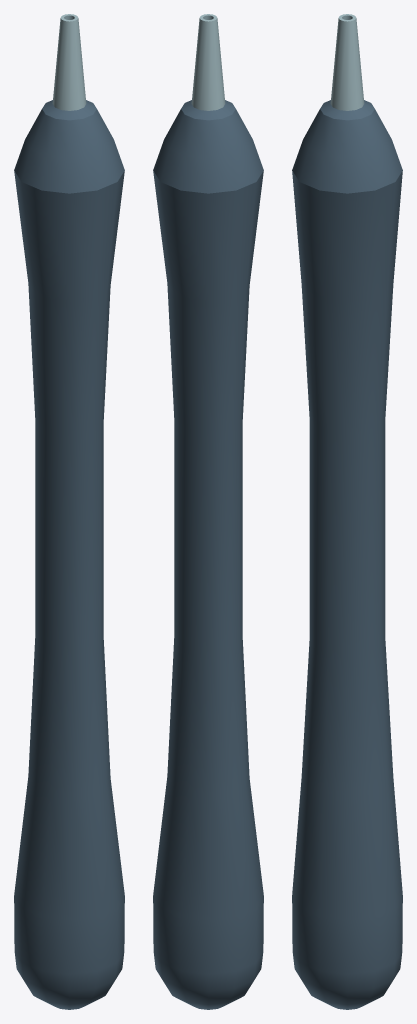
File: BlingTool.fbx
3 renders of one model, left to right at view 1: azimuth 30°, elevation 25°; view 2: azimuth 210°, elevation 25°; view 3: azimuth 270°, elevation 25°, orthographic.
Visible parts, largest first — view 1: Cylinder; view 2: Cylinder; view 3: Cylinder.
Part boxes in pixels (<box>): Cylinder: <box>14,14,124,1009</box>; Cylinder: <box>153,14,263,1009</box>; Cylinder: <box>292,14,402,1009</box>.
Size of the model in its own units: 22.03 by 216 by 22.03.
